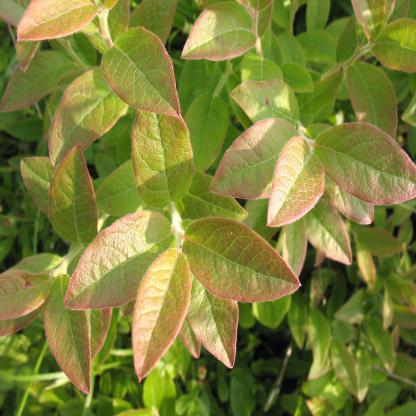blueberry leaf: (183, 211, 303, 316), (69, 217, 180, 322), (199, 113, 310, 205), (310, 117, 416, 213), (123, 247, 195, 383), (33, 270, 97, 404), (105, 26, 180, 139), (129, 104, 199, 224), (38, 140, 103, 262), (263, 136, 323, 236), (178, 8, 267, 69), (10, 1, 111, 52), (345, 56, 400, 148), (225, 74, 305, 136), (0, 266, 60, 340)
